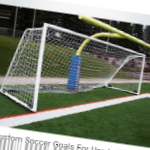goals: (1, 21, 146, 114)
